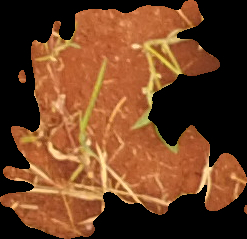soil: (2, 1, 247, 238)
